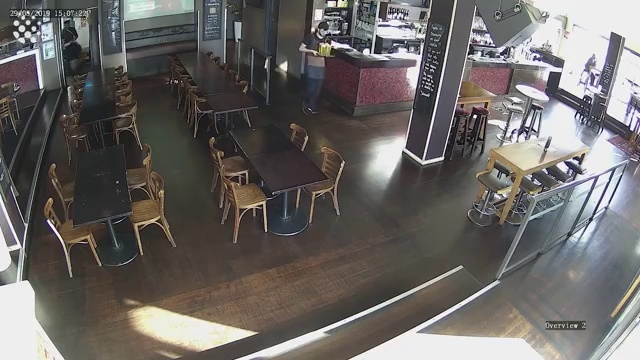face: (319, 26, 327, 37)
